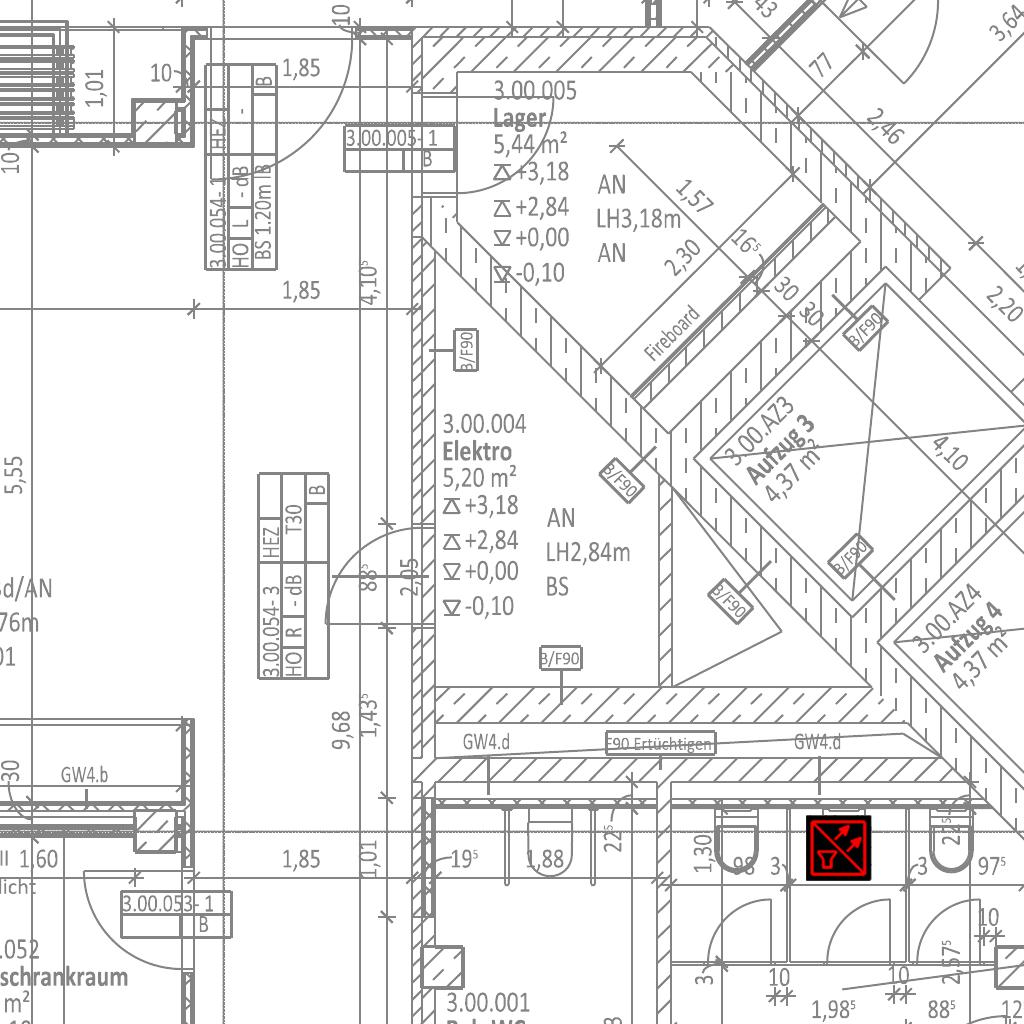OKW_Multisensormelder_(Kombination_optischer_Rauch-Kahlenmonoxid_Waerme-Melder): (806, 815, 872, 881)
